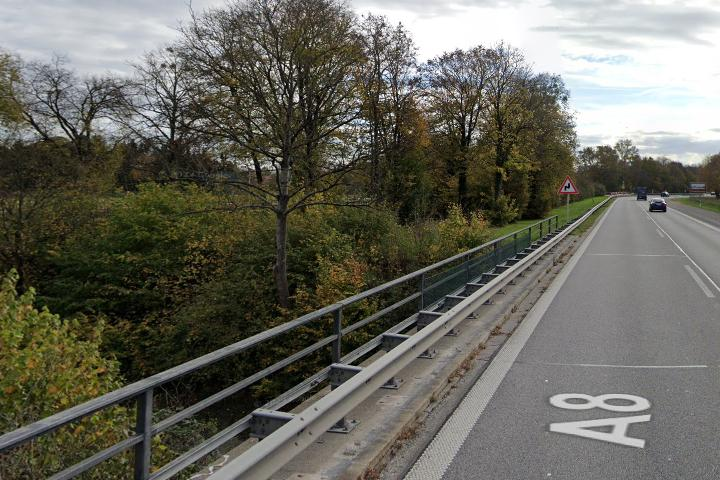traffic_sign: (558, 175, 577, 195)
vehicle: (646, 196, 670, 215)
